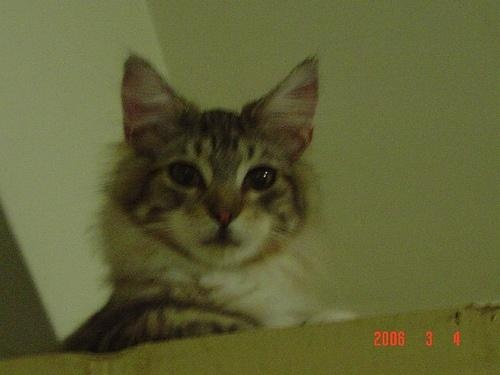cat: (74, 54, 352, 345)
